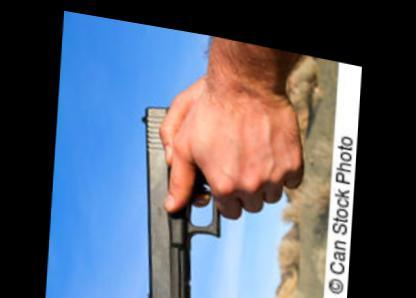pistol: (127, 93, 229, 295)
